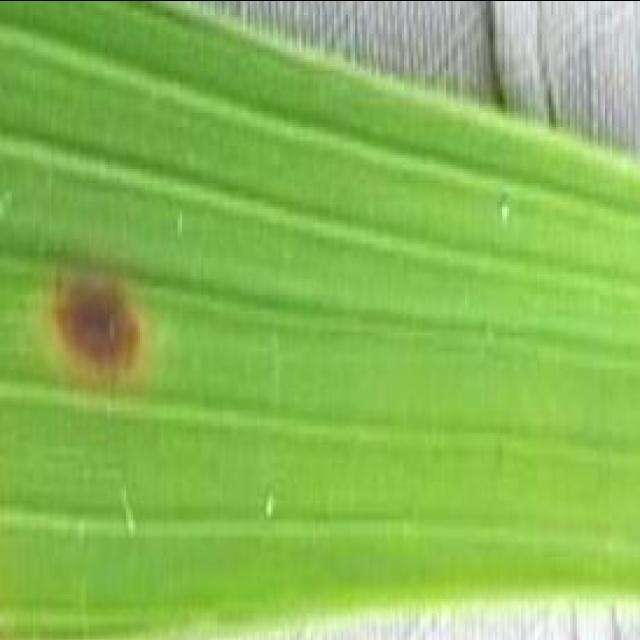Brown_Spot: (11, 257, 170, 402)
